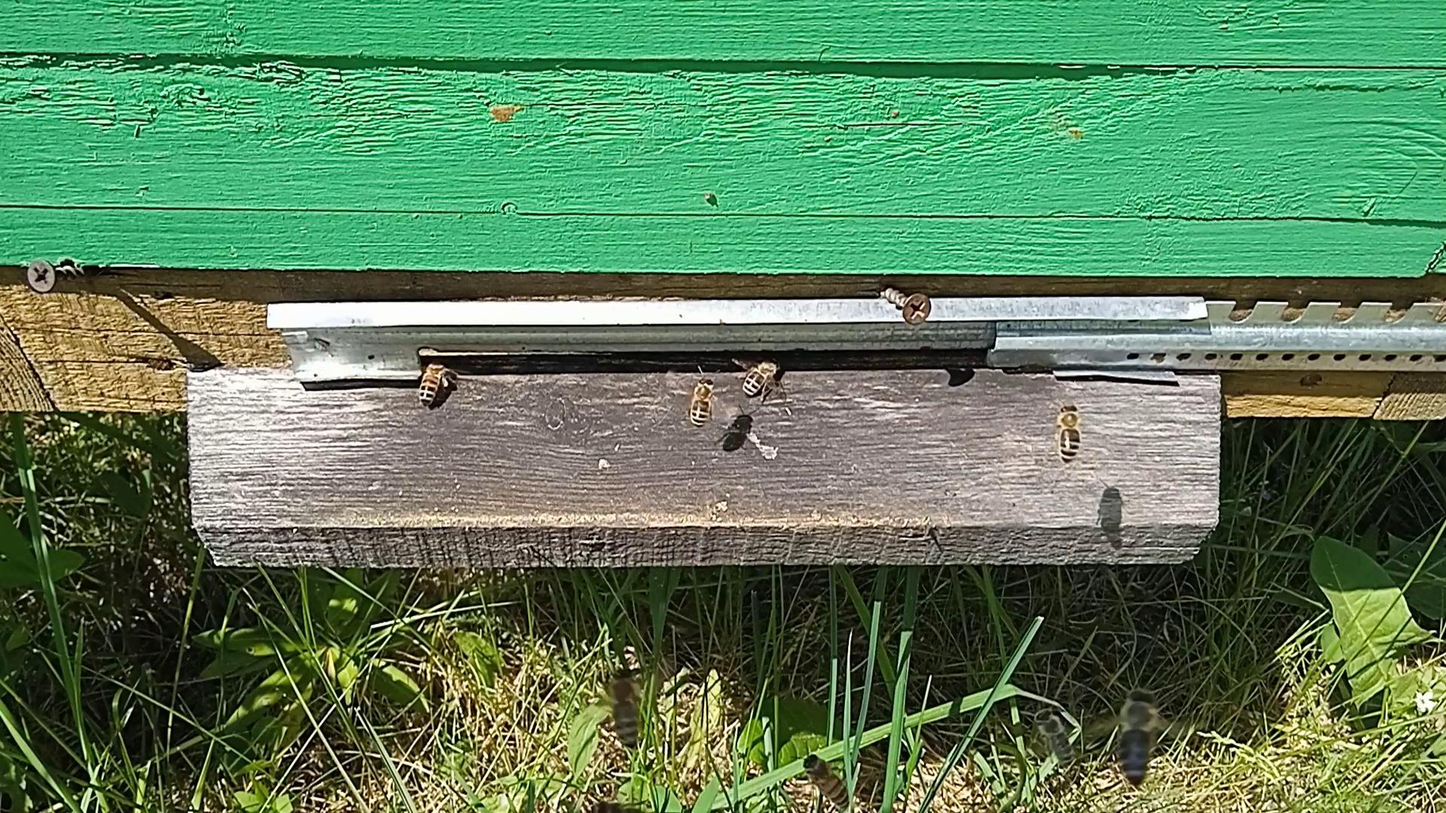worker-bee: (1115, 689, 1159, 786), (608, 666, 645, 748), (803, 754, 852, 811), (1033, 706, 1075, 764), (1055, 402, 1083, 465), (417, 359, 453, 407), (741, 357, 781, 397), (688, 376, 716, 429)
